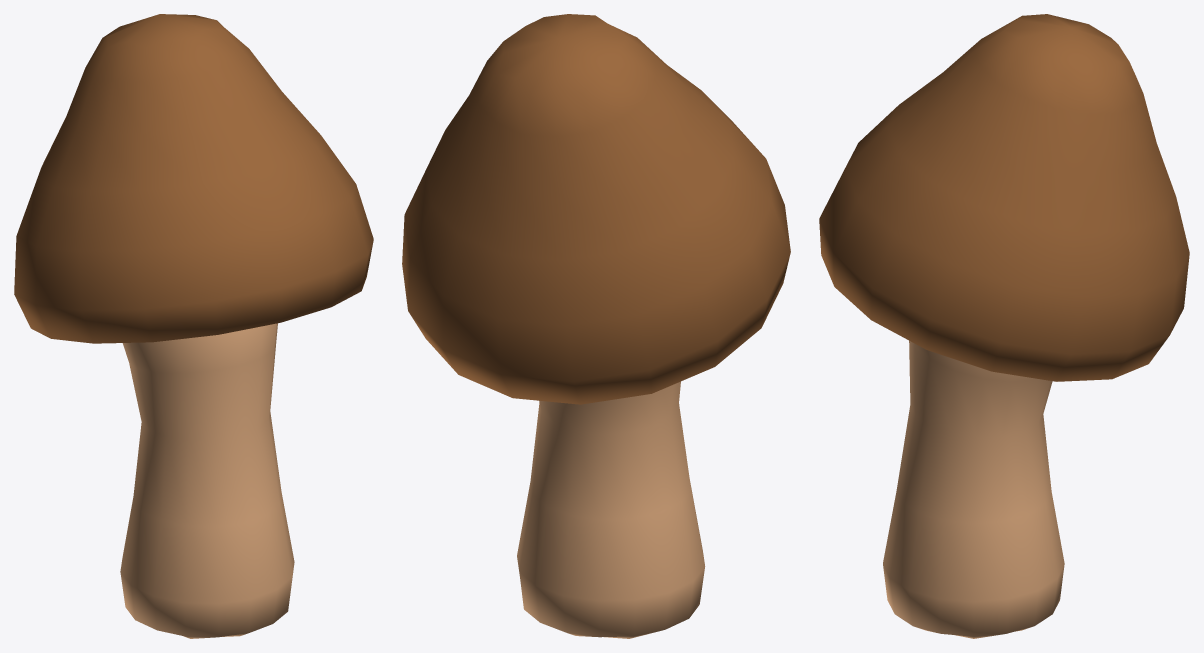
Rendered from mushroom_cap.fbx.
3 views of the same model, side by side, from view 1: azimuth 30°, elevation 25°; view 2: azimuth 150°, elevation 25°; view 3: azimuth 270°, elevation 25° (orthographic). The views are drawn at different scales.
Visible parts, largest first — view 1: mushroom_armillaria_gallica; view 2: mushroom_armillaria_gallica; view 3: mushroom_armillaria_gallica.
Part boxes in pixels (box(x1,y1,x2,y2)): mushroom_armillaria_gallica: box(14, 14, 373, 638); mushroom_armillaria_gallica: box(402, 14, 790, 638); mushroom_armillaria_gallica: box(819, 14, 1189, 638).
Size of the model in its own units: 24.84 by 42.56 by 24.35.
